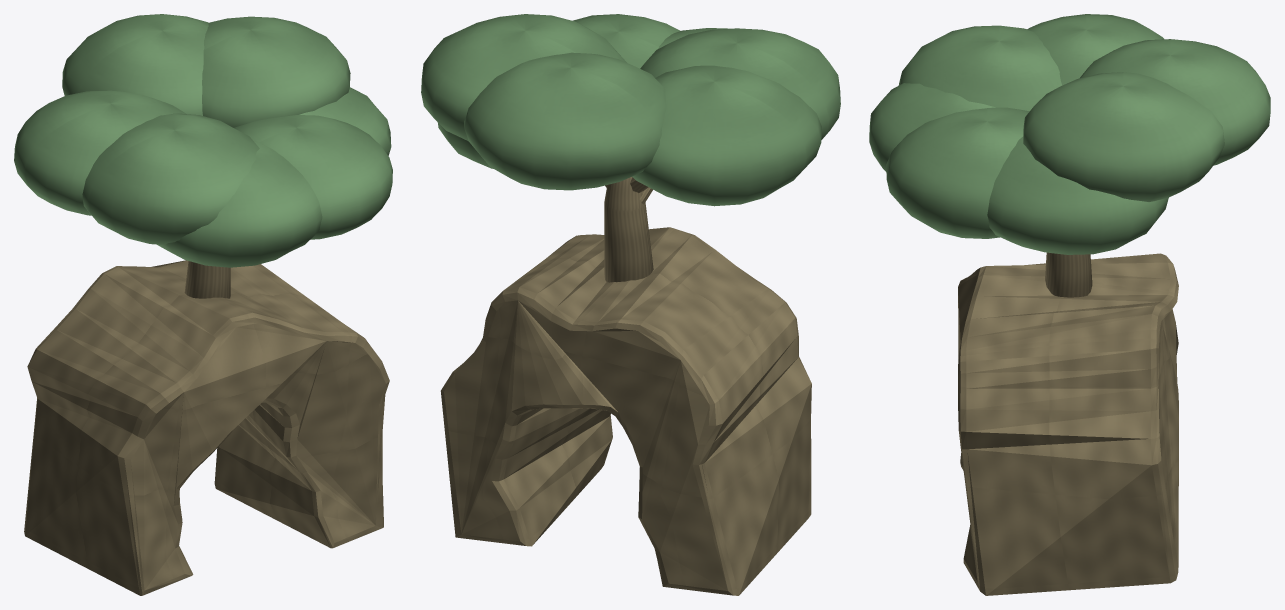
Rendered from root_arch_swamp_tree_swamp_and_mangrove_22611.glb.
3 views of the same model, side by side, from view 1: azimuth 30°, elevation 25°; view 2: azimuth 150°, elevation 25°; view 3: azimuth 270°, elevation 25° (orthographic). The views are drawn at different scales.
Parts seen in each view (by area): view 1: root-arch-tree_0, root-arch-tree_5, root-arch-tree_13, root-arch-tree_7, root-arch-tree_11, root-arch-tree_15, root-arch-tree_9, root-arch-tree_3, root-arch-tree_1; view 2: root-arch-tree_0, root-arch-tree_7, root-arch-tree_11, root-arch-tree_13, root-arch-tree_5, root-arch-tree_1, root-arch-tree_9, root-arch-tree_3; view 3: root-arch-tree_0, root-arch-tree_13, root-arch-tree_9, root-arch-tree_3, root-arch-tree_5, root-arch-tree_7, root-arch-tree_11, root-arch-tree_15, root-arch-tree_1.
Part boxes in pixels (left/top/right/bottom): root-arch-tree_0: left=24, top=260, right=389, bottom=595; root-arch-tree_5: left=82, top=113, right=259, bottom=244; root-arch-tree_13: left=202, top=16, right=350, bottom=127; root-arch-tree_7: left=62, top=14, right=208, bottom=115; root-arch-tree_11: left=14, top=90, right=185, bottom=215; root-arch-tree_15: left=156, top=140, right=322, bottom=267; root-arch-tree_9: left=234, top=115, right=392, bottom=239; root-arch-tree_3: left=299, top=87, right=391, bottom=155; root-arch-tree_1: left=184, top=261, right=230, bottom=298; root-arch-tree_0: left=440, top=227, right=811, bottom=595; root-arch-tree_7: left=464, top=52, right=666, bottom=190; root-arch-tree_11: left=632, top=65, right=821, bottom=206; root-arch-tree_13: left=421, top=14, right=626, bottom=140; root-arch-tree_5: left=640, top=28, right=840, bottom=139; root-arch-tree_1: left=604, top=177, right=653, bottom=282; root-arch-tree_9: left=573, top=14, right=680, bottom=68; root-arch-tree_3: left=437, top=122, right=493, bottom=168; root-arch-tree_0: left=958, top=253, right=1178, bottom=595; root-arch-tree_13: left=1023, top=72, right=1224, bottom=201; root-arch-tree_9: left=886, top=107, right=1029, bottom=238; root-arch-tree_3: left=987, top=136, right=1168, bottom=254; root-arch-tree_5: left=898, top=25, right=1061, bottom=111; root-arch-tree_7: left=1080, top=39, right=1270, bottom=165; root-arch-tree_11: left=1027, top=14, right=1163, bottom=85; root-arch-tree_15: left=869, top=83, right=995, bottom=171; root-arch-tree_1: left=1045, top=252, right=1092, bottom=297.
Size of the model in its own units: 4.02 by 5.18 by 3.96.
2 materials, 2 textured.
